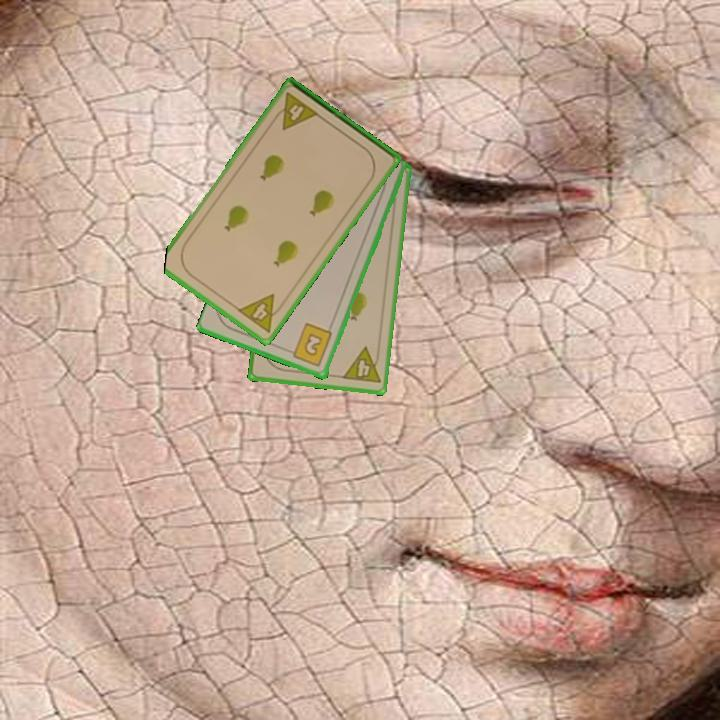2b: (284, 320, 336, 370)
4p: (234, 290, 288, 336), (269, 89, 322, 133), (339, 344, 383, 387)
